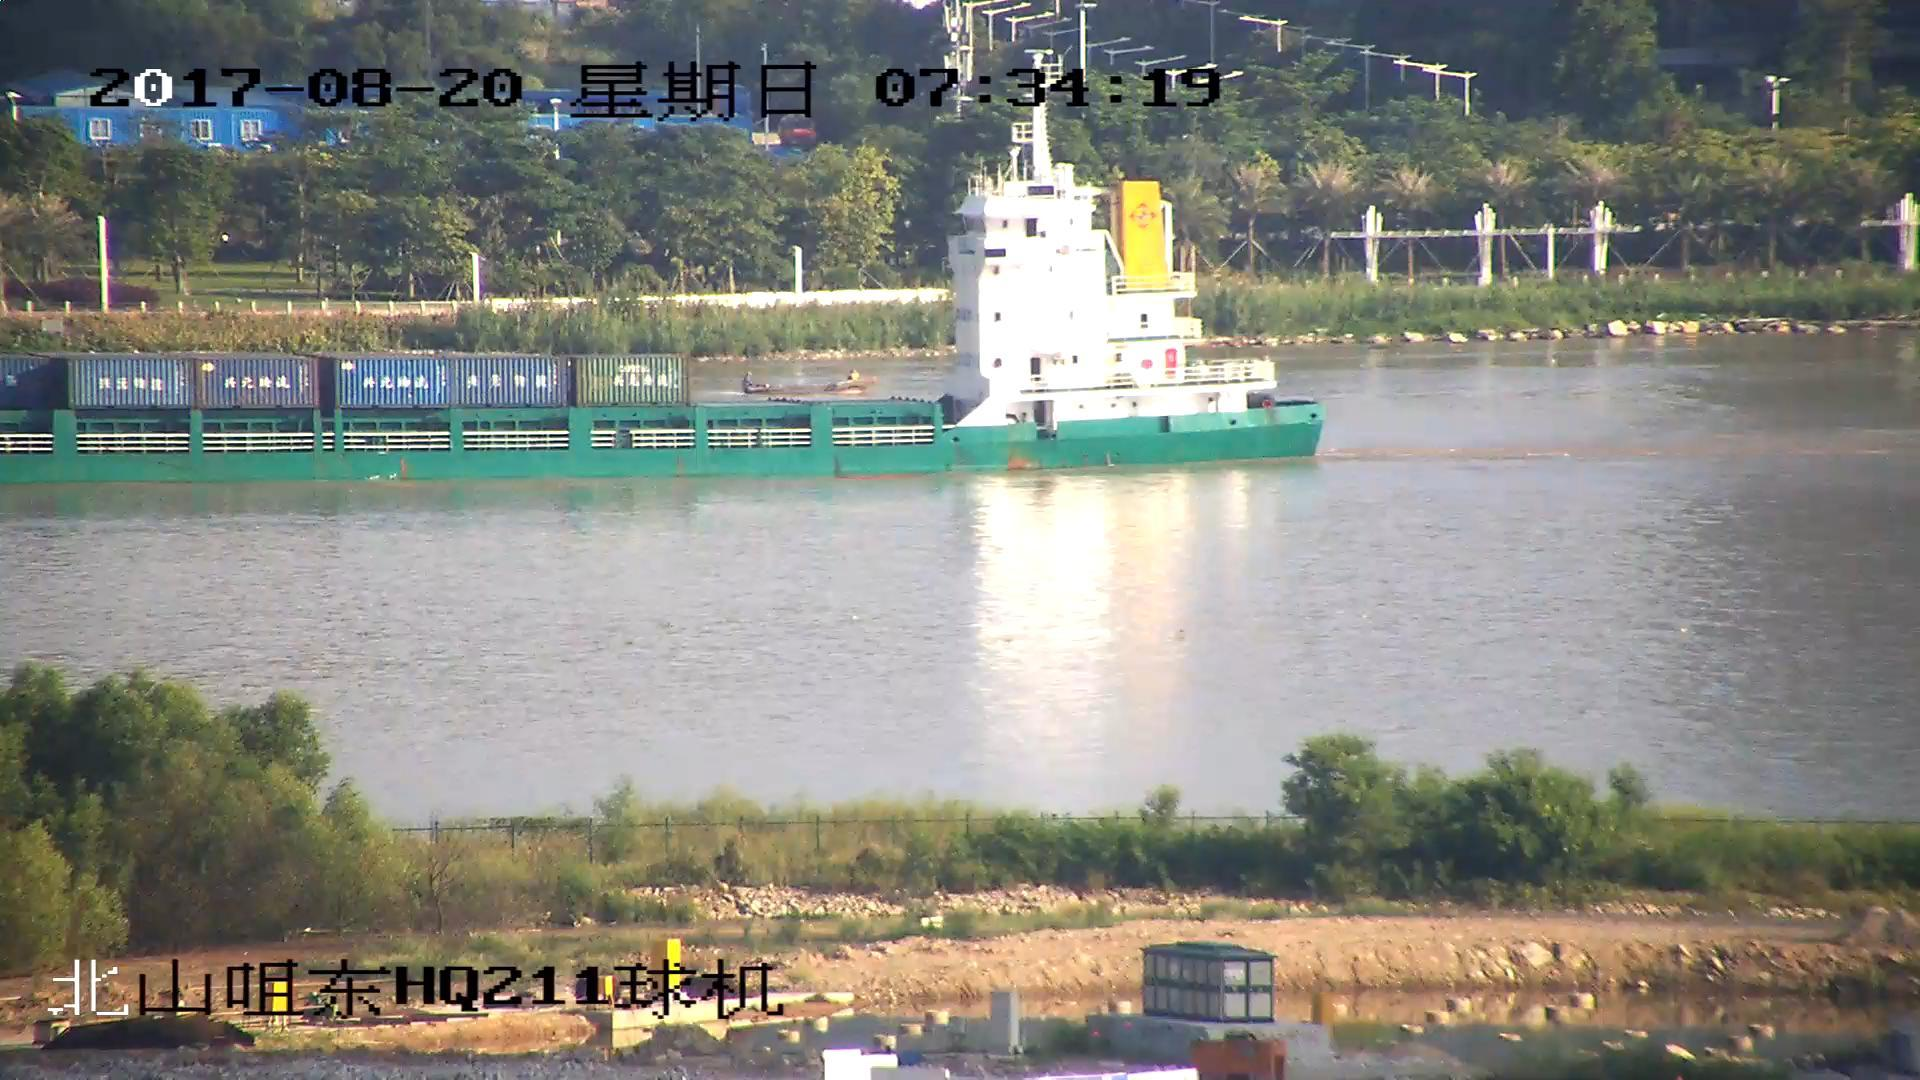Ship: (3, 109, 1328, 480)
